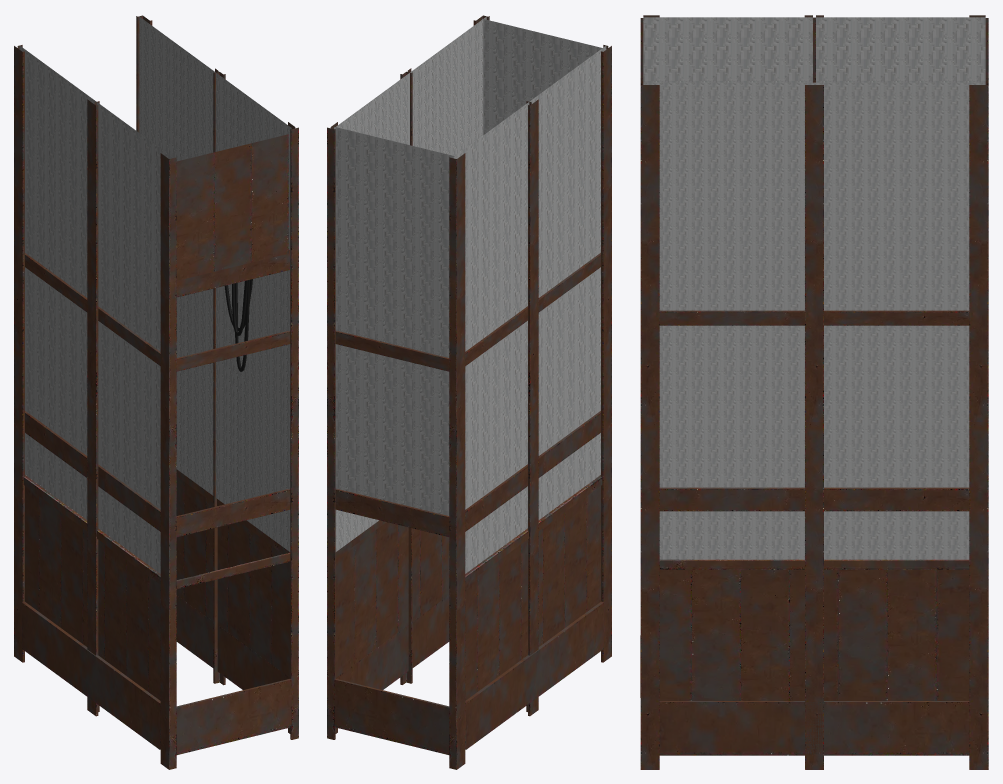
File: apartments_complex_b_corridor_a_lift_shaft.glb
The picture shows the model from 3 angles, left to right: view 1: azimuth 30°, elevation 25°; view 2: azimuth 150°, elevation 25°; view 3: azimuth 270°, elevation 25°; orthographic projection. The views are drawn at different scales.
Parts seen in each view (by area): view 1: apartments_complex_b_corridor_a_lift_shaft_LOD0; view 2: apartments_complex_b_corridor_a_lift_shaft_LOD0; view 3: apartments_complex_b_corridor_a_lift_shaft_LOD0.
Boxes of the visible parts, <box> form: apartments_complex_b_corridor_a_lift_shaft_LOD0: <box>14,15,298,769</box>; apartments_complex_b_corridor_a_lift_shaft_LOD0: <box>327,15,611,769</box>; apartments_complex_b_corridor_a_lift_shaft_LOD0: <box>640,15,988,769</box>.
Bounding box in the file's own units: 1.76 × 7.87 × 3.63.
Materials: 3 (3 with a texture image).
